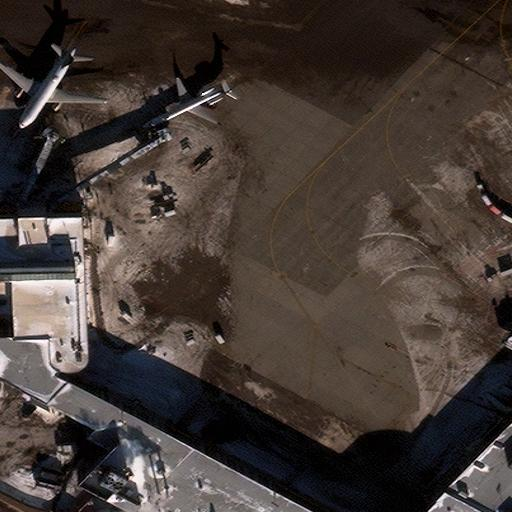Medium Civil Transport: (0, 47, 105, 129), (143, 78, 231, 127)
